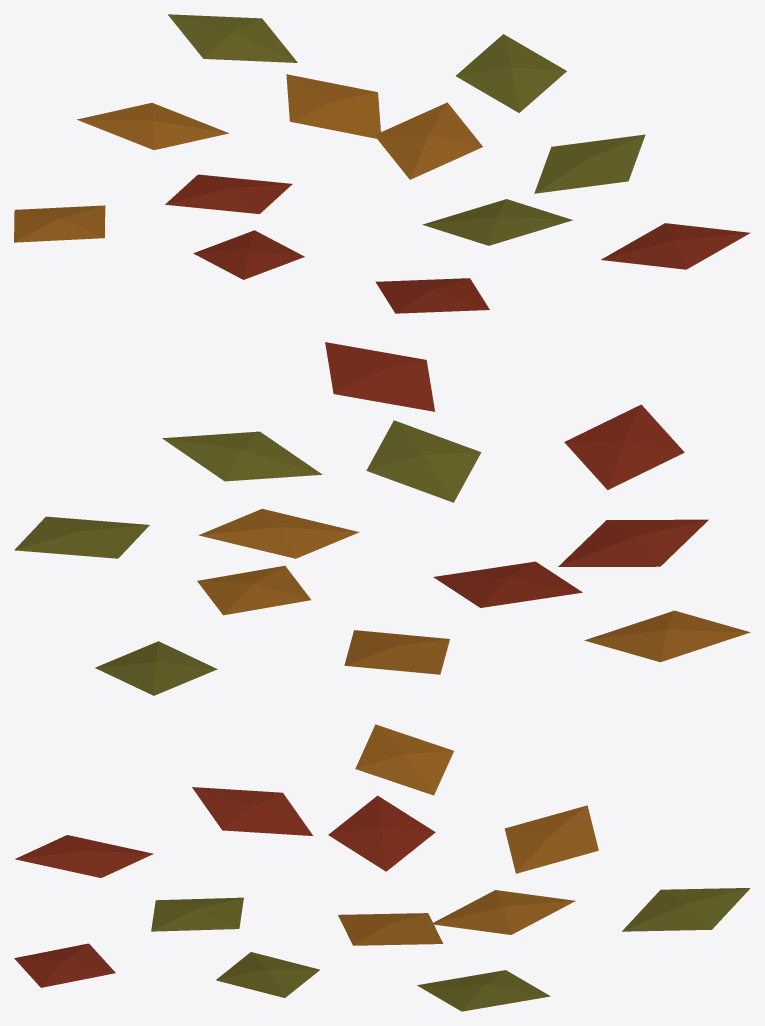
Rendered from Extra_LeafPile_01.fbx.
3 views of the same model, one above another, from view 1: azimuth 30°, elevation 25°; view 2: azimuth 150°, elevation 25°; view 3: azimuth 270°, elevation 25° (orthographic). The views are drawn at different scales.
Parts seen in each view (by area): view 1: Extra_LeafPile_01_Mesh; view 2: Extra_LeafPile_01_Mesh; view 3: Extra_LeafPile_01_Mesh.
Boxes of the visible parts, x1,y1,x2,y2 form: Extra_LeafPile_01_Mesh: (14, 14, 750, 313); Extra_LeafPile_01_Mesh: (14, 342, 750, 695); Extra_LeafPile_01_Mesh: (14, 724, 750, 1011).
Size of the model in its own units: 0.6758 by 0.016 by 0.7511.
1 material, 1 textured.
